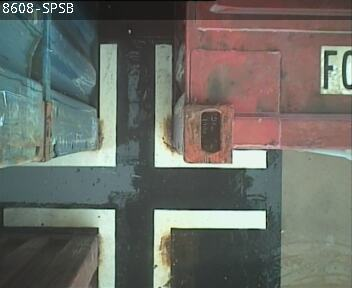groundmarker_1: (8, 43, 266, 165), (7, 210, 265, 288)
